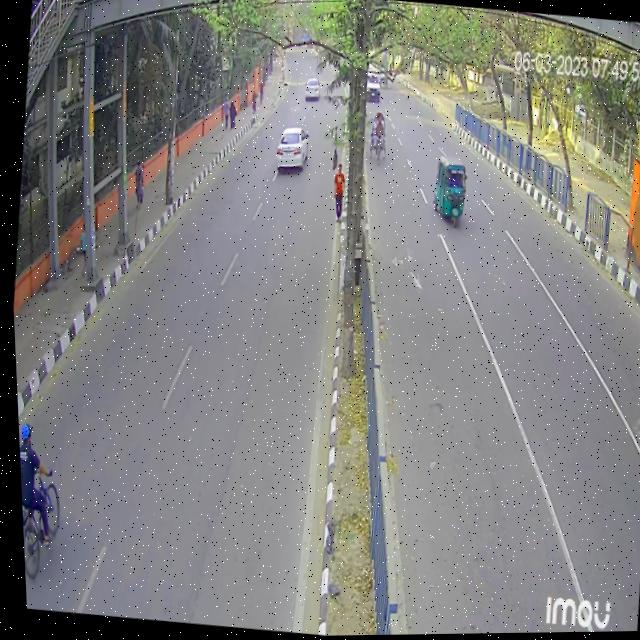cng: (421, 146, 472, 238)
rikshaw: (364, 111, 389, 167)
